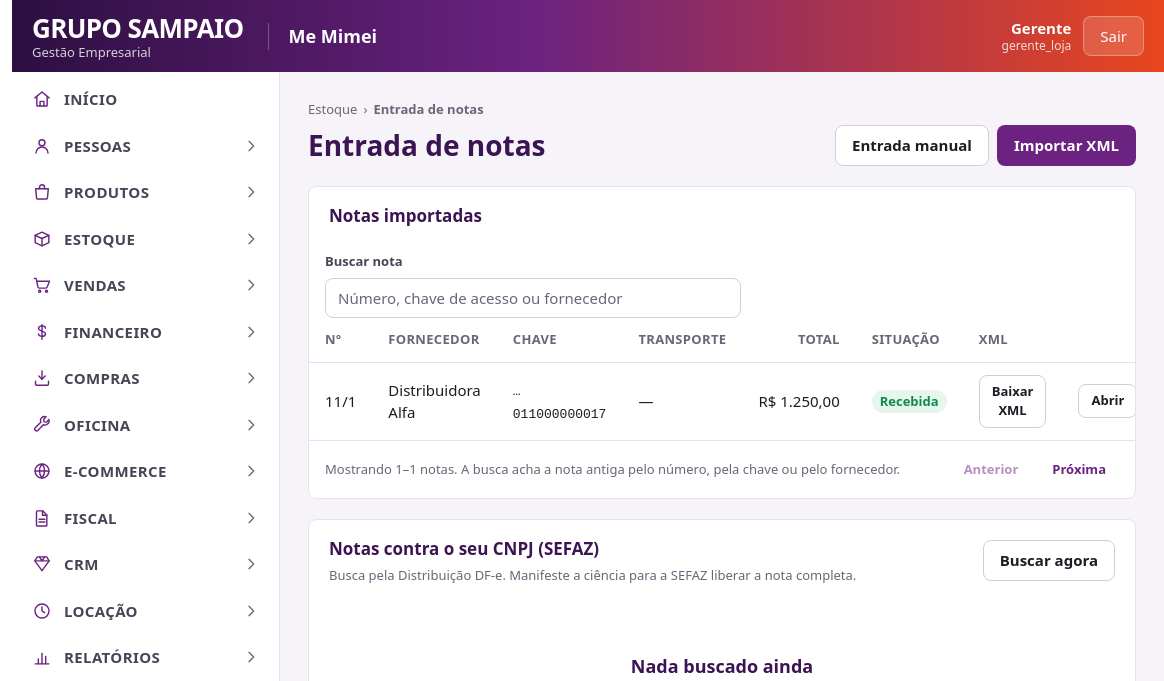
Scenario: o download do arquivo › nota que não é mais desta operação recarrega a lista e diz outra coisa
The image size is (1164, 681).
Check: the text "Distribuidora Alfa" is shown, box [372,362,497,440]
Click the button "Baixar XML".
click(1012, 401)  # box [979,374,1046,428]
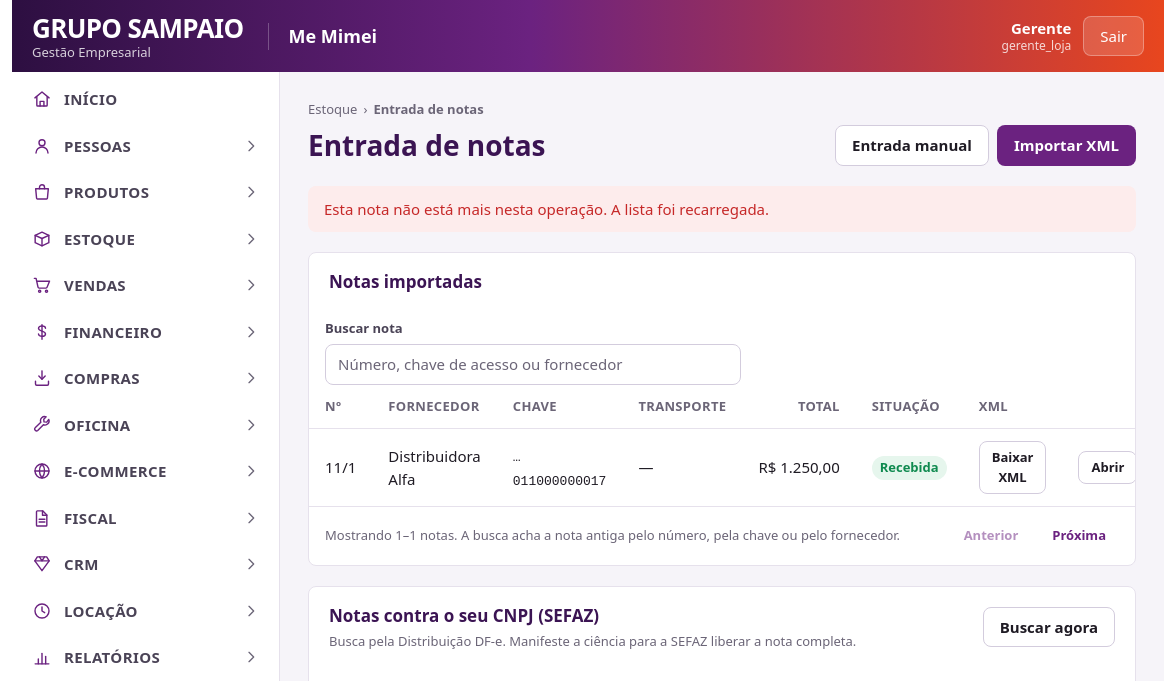
Check: the text "Esta nota não está mais nesta operação. A lista foi recarregada." is shown, box [308,186,1136,232]
